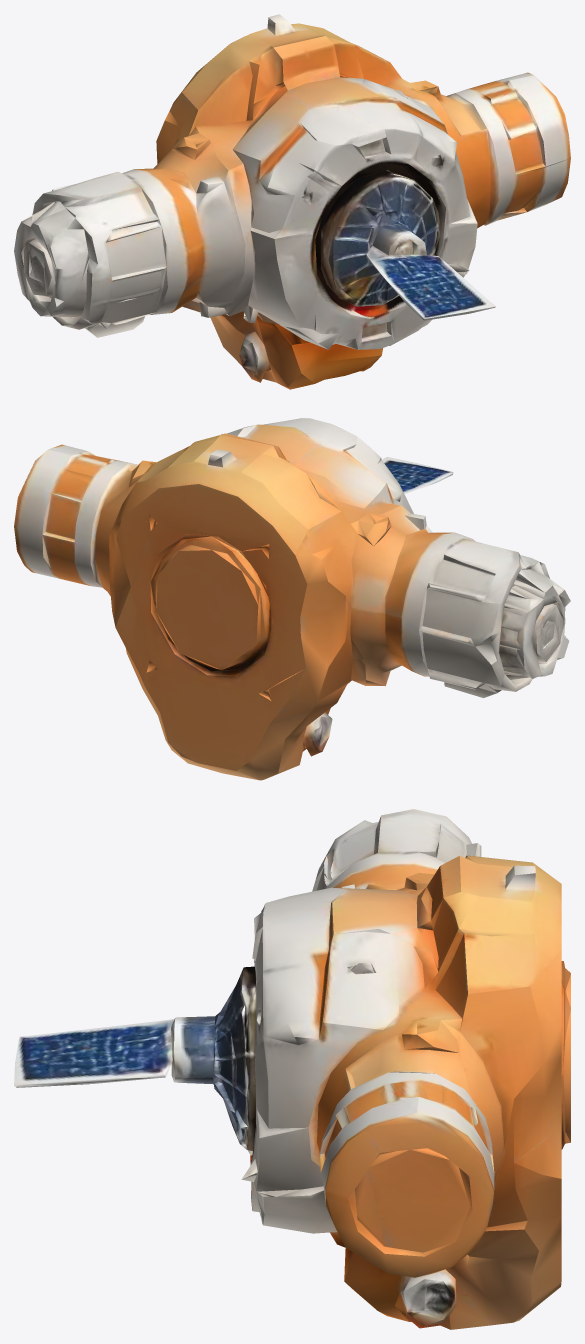
Rendered from stationModule.glb.
The picture shows the model from 3 angles, top to bottom: view 1: azimuth 30°, elevation 25°; view 2: azimuth 150°, elevation 25°; view 3: azimuth 270°, elevation 25°; orthographic projection. The views are drawn at different scales.
Parts seen in each view (by area): view 1: model; view 2: model; view 3: model.
Part boxes in pixels (box(x1,y1,x2,y2)): model: box(14, 14, 570, 389); model: box(14, 418, 570, 780); model: box(14, 809, 570, 1329).
Bounding box in the file's own units: 1.9 × 1.16 × 1.36.
Materials: 1 (1 with a texture image).
